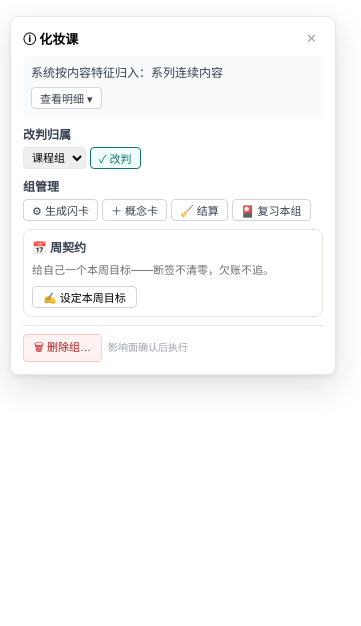
Test: RouteInfoPopover ⓘ 弹层 › 结算简报：组内有 model 卡且体系有失效概念时两行提示
Click the button with test id "settle-button". click: (199, 210)
box: [171,199,228,221]
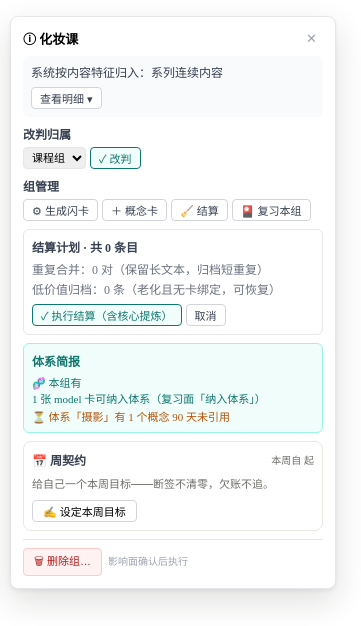
expect the text "🧬 本组有 1 张 model 卡可纳入体系（复习面「纳入体系」）" is shown: met, box [32,377,266,405]
expect the text "⏳ 体系「摄影」有 1 个概念 90 天未引用" is shown: met, box [32,411,230,423]
